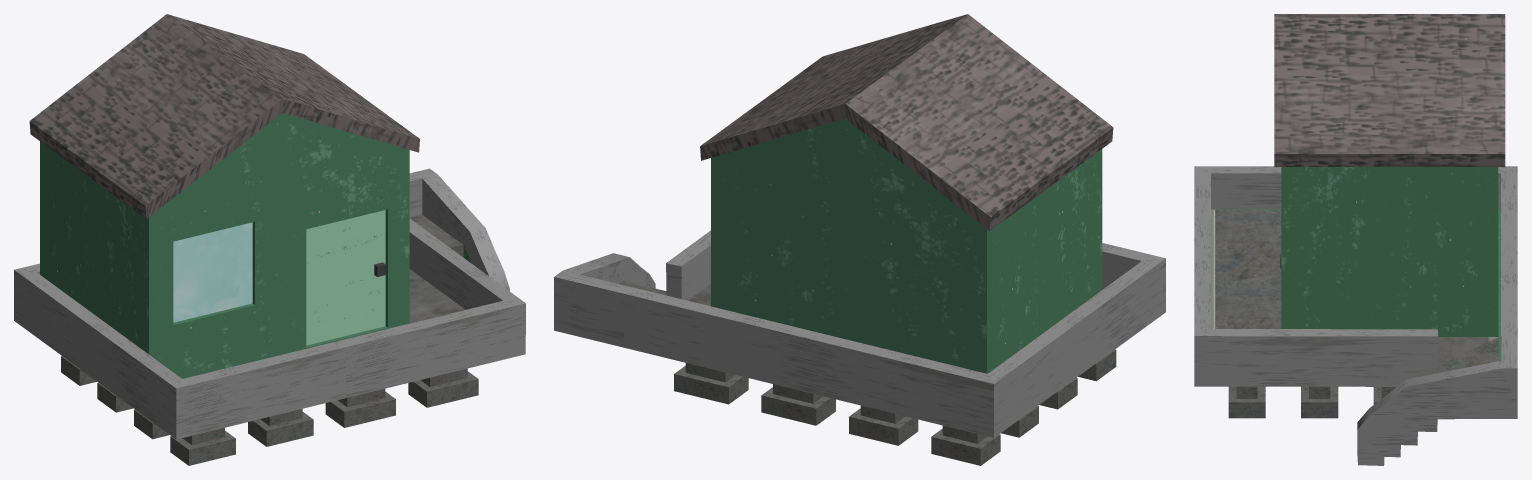
The model's file is Construction_office (10).fbx.
3 views of the same model, side by side, from view 1: azimuth 30°, elevation 25°; view 2: azimuth 150°, elevation 25°; view 3: azimuth 270°, elevation 25° (orthographic). The views are drawn at different scales.
Parts seen in each view (by area): view 1: Cube; view 2: Cube; view 3: Cube.
Boxes of the visible parts, bbox=[...] form: Cube: bbox=[14, 14, 525, 465]; Cube: bbox=[554, 14, 1165, 465]; Cube: bbox=[1194, 14, 1517, 465].
Size of the model in its own units: 669 by 496 by 453.
Materials: 1 (1 with a texture image).
